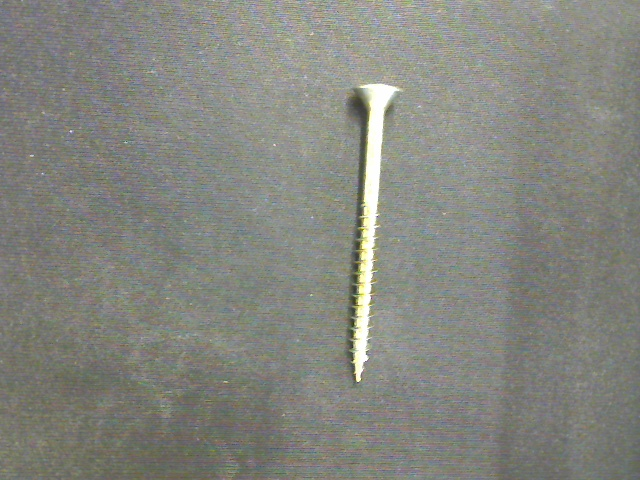Screw: (352, 83, 403, 383)
